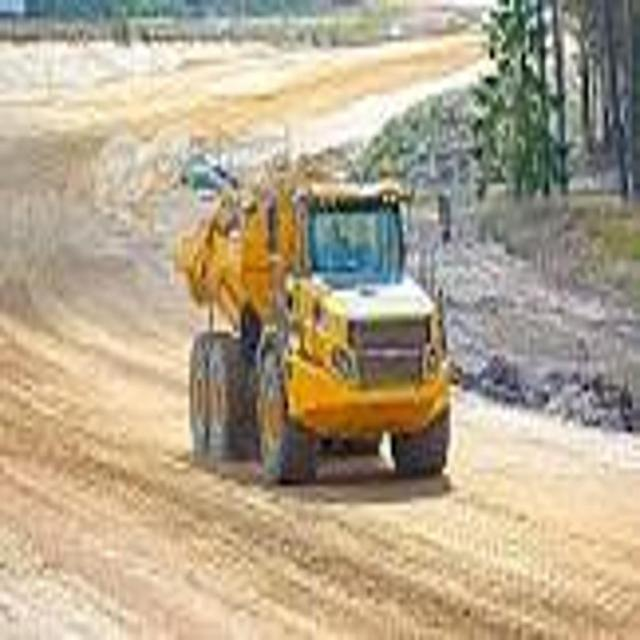dump_truck: (176, 146, 459, 498)
